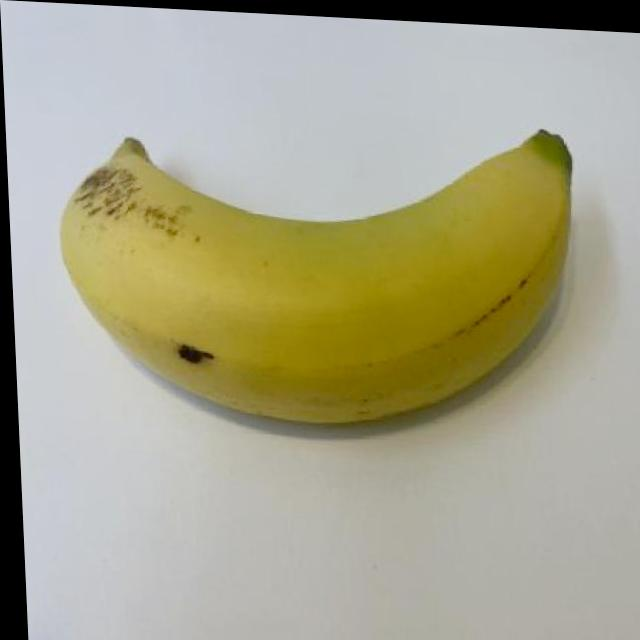banana: (54, 91, 591, 446)
